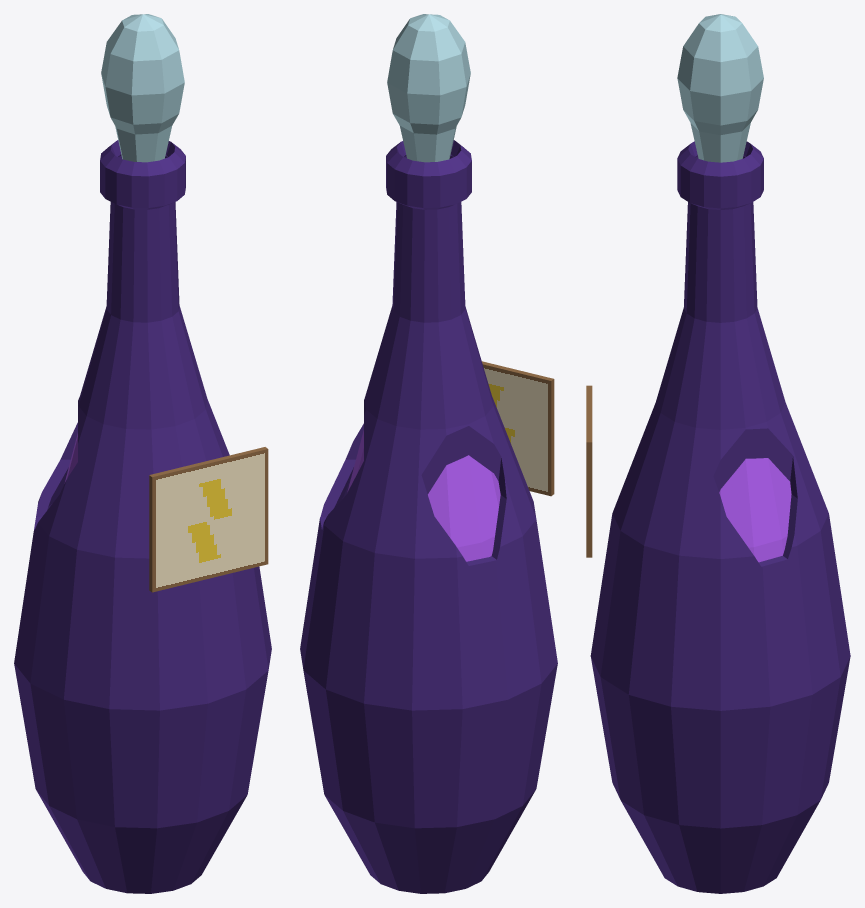
Rendered from turbo_ether.obj.
3 renders of one model, left to right at view 1: azimuth 30°, elevation 25°; view 2: azimuth 150°, elevation 25°; view 3: azimuth 270°, elevation 25°, orthographic.
Parts seen in each view (by area): view 1: A_Flask.001_turbo_ether_glass, C_Label.001_turbo_ether_label, S_Stopper.001_turbo_ether_stopper; view 2: A_Flask.001_turbo_ether_glass, S_Stopper.001_turbo_ether_stopper, C_Label.001_turbo_ether_label, A_Liquid.001_turbo_ether_liquid; view 3: A_Flask.001_turbo_ether_glass, S_Stopper.001_turbo_ether_stopper, A_Liquid.001_turbo_ether_liquid, C_Label.001_turbo_ether_label.
Boxes of the visible parts, bbox=[...] form: A_Flask.001_turbo_ether_glass: bbox=[14, 140, 271, 893]; C_Label.001_turbo_ether_label: bbox=[149, 447, 268, 592]; S_Stopper.001_turbo_ether_stopper: bbox=[101, 14, 184, 162]; A_Flask.001_turbo_ether_glass: bbox=[300, 140, 557, 893]; S_Stopper.001_turbo_ether_stopper: bbox=[387, 14, 470, 162]; C_Label.001_turbo_ether_label: bbox=[482, 361, 554, 496]; A_Liquid.001_turbo_ether_liquid: bbox=[347, 430, 500, 561]; A_Flask.001_turbo_ether_glass: bbox=[590, 141, 850, 893]; S_Stopper.001_turbo_ether_stopper: bbox=[677, 14, 763, 162]; A_Liquid.001_turbo_ether_liquid: bbox=[719, 458, 791, 562]; C_Label.001_turbo_ether_label: bbox=[586, 385, 592, 557].
Size of the model in its own units: 0.924 by 3.35 by 0.9394.
